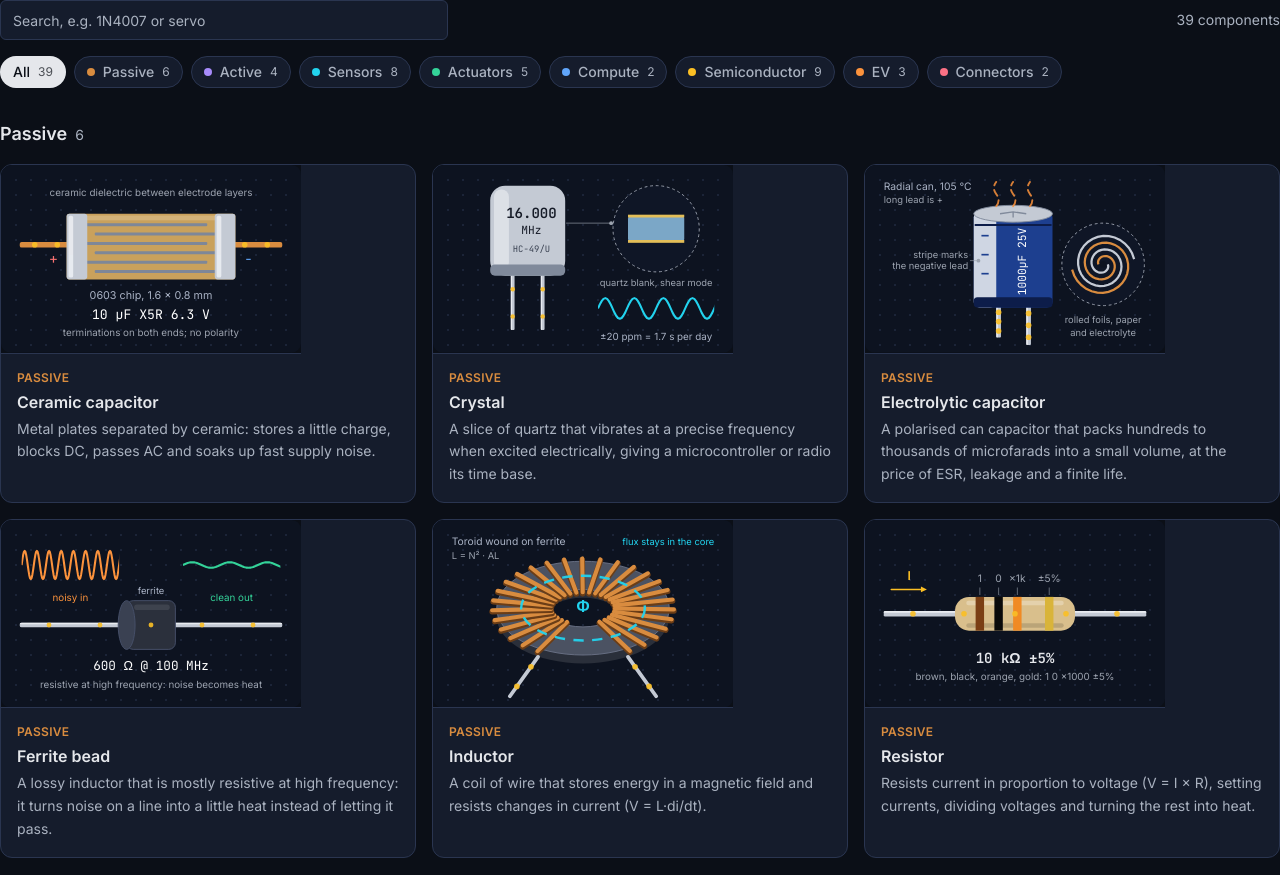
Test case: EncyclopediaBrowser › combines search and category, and shows an empty state with a way out
Click the button "Sensors 8".
click(355, 72)  # box [299,56,411,88]
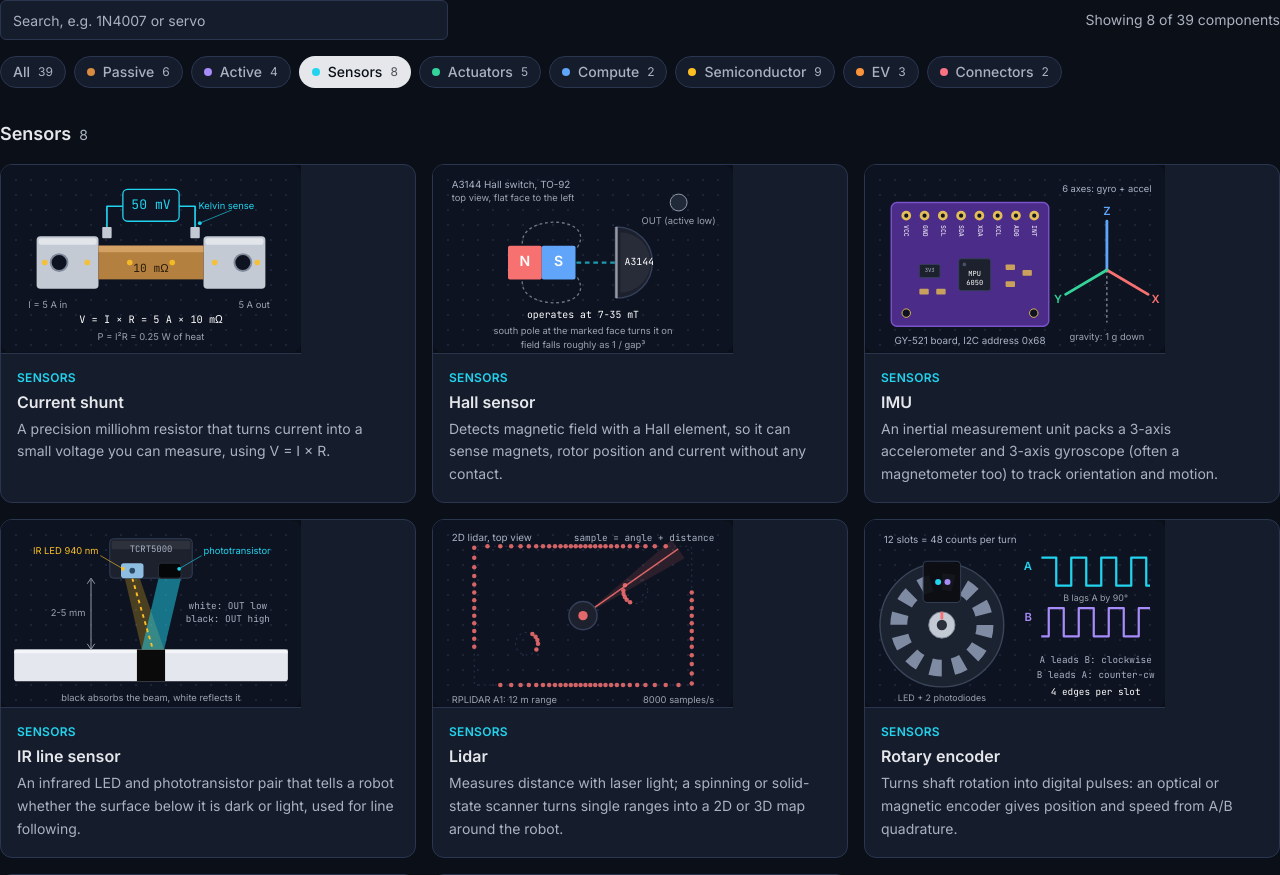
Type "magnet" into the search field labelled "Search, e.g. 1N4007 or servo".
click(224, 20); type("magnet")  # box [0,0,448,40]
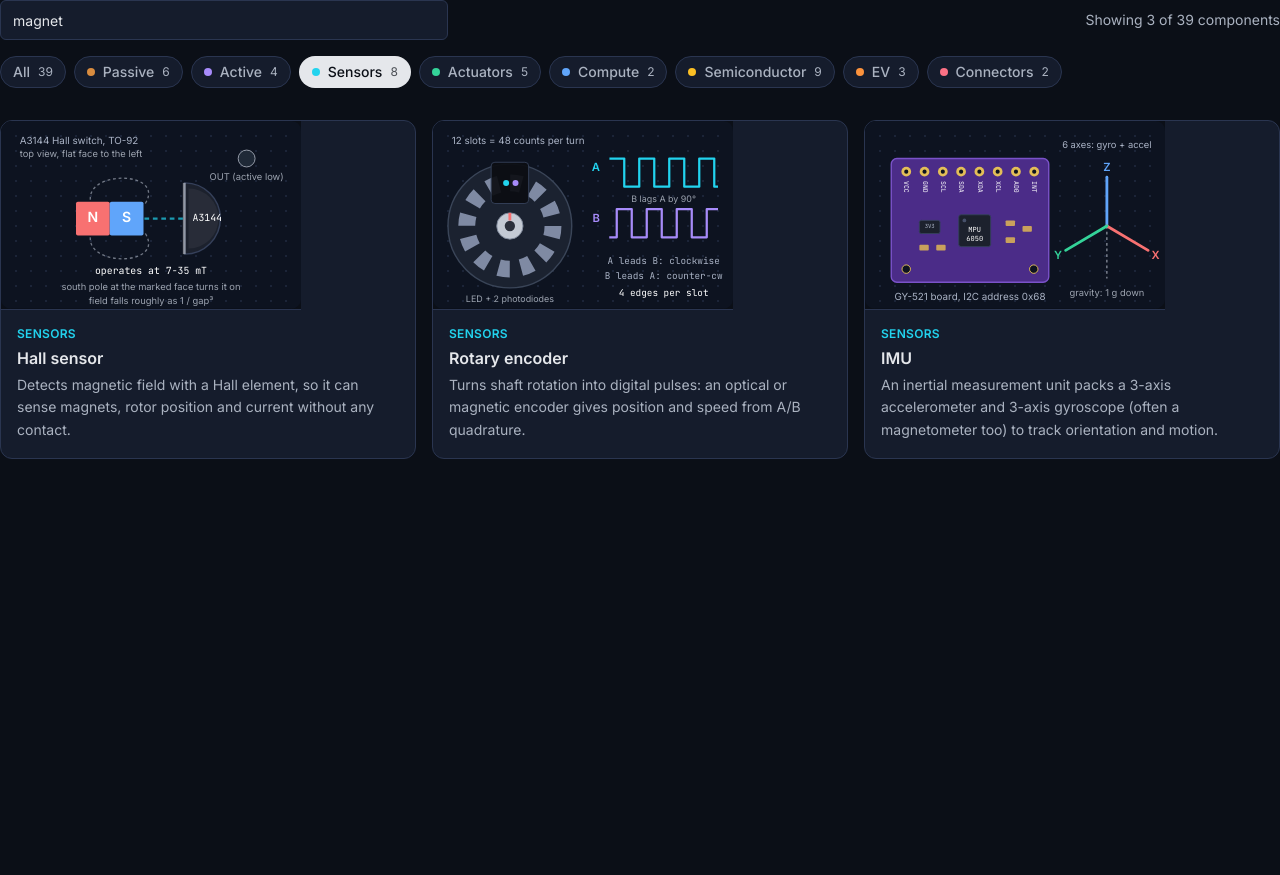
expect the text "Hall sensor" is shown: met, box [17,348,104,368]
Click the button "Passive 6".
click(128, 72)  # box [74,56,183,88]
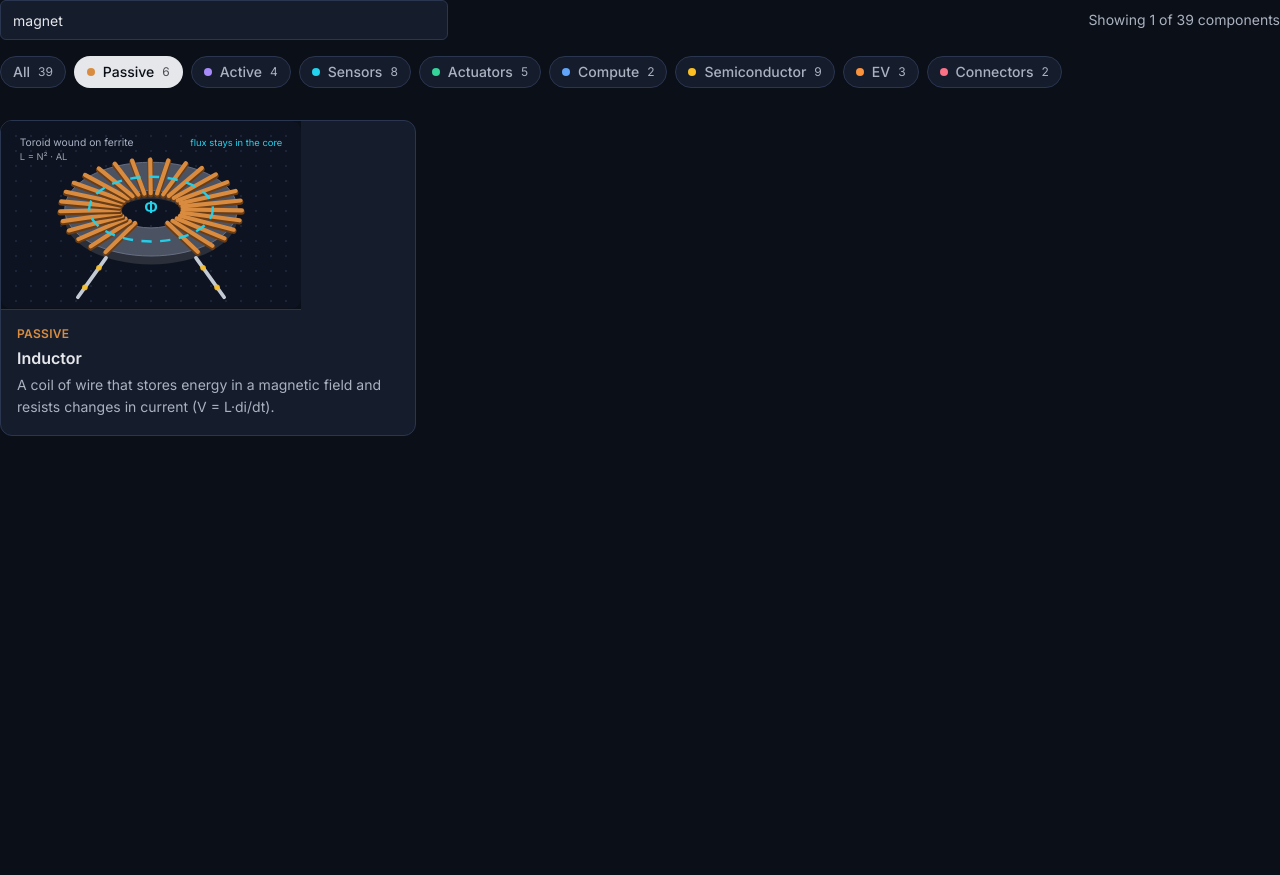
Replace the text in the search field named "Search" with "ultrasonic" at point(224, 20), box [0,0,448,40]
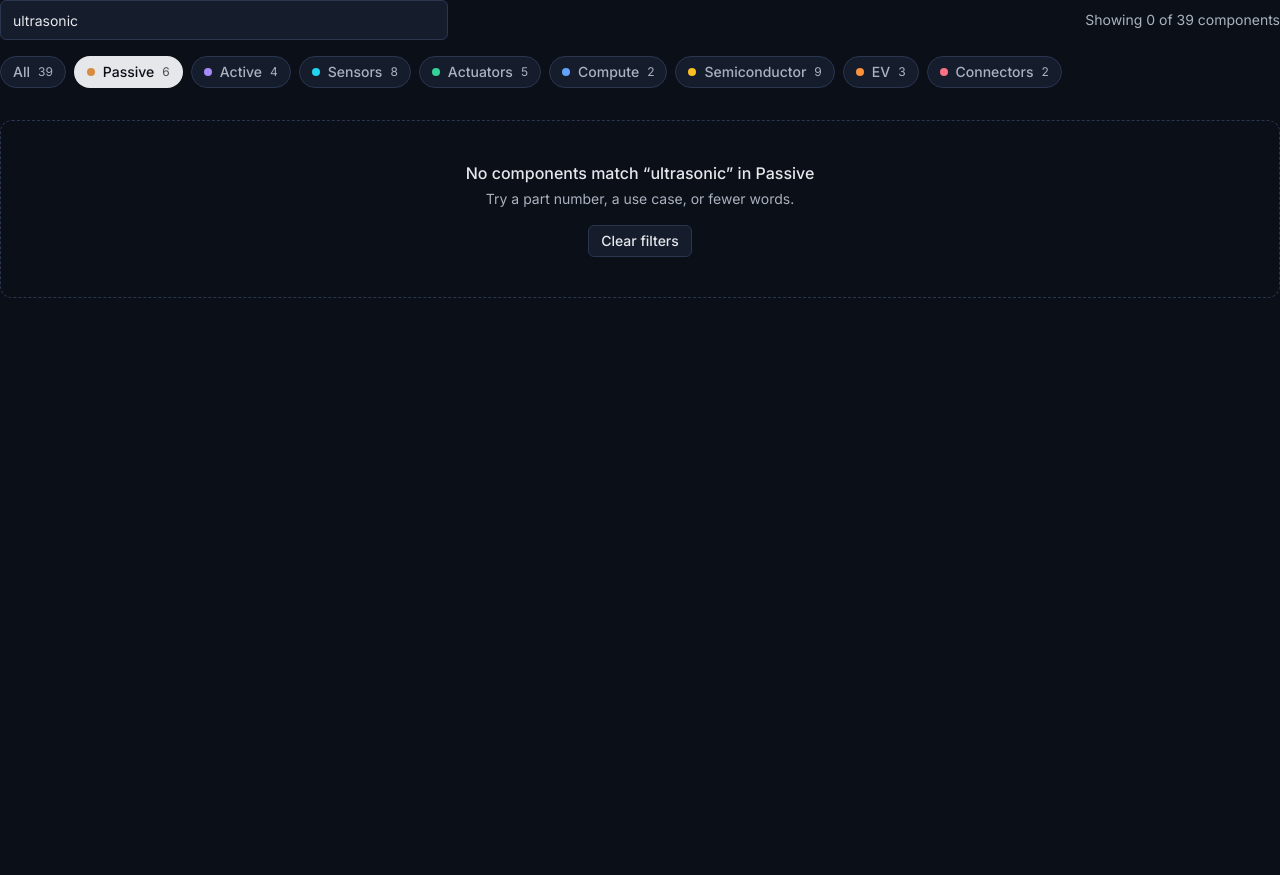
expect the text "No components match “ultrasonic” in Passive" is shown: met, box [466,163,814,183]
Click the button "Clear filters".
click(640, 241)  # box [588,225,692,257]
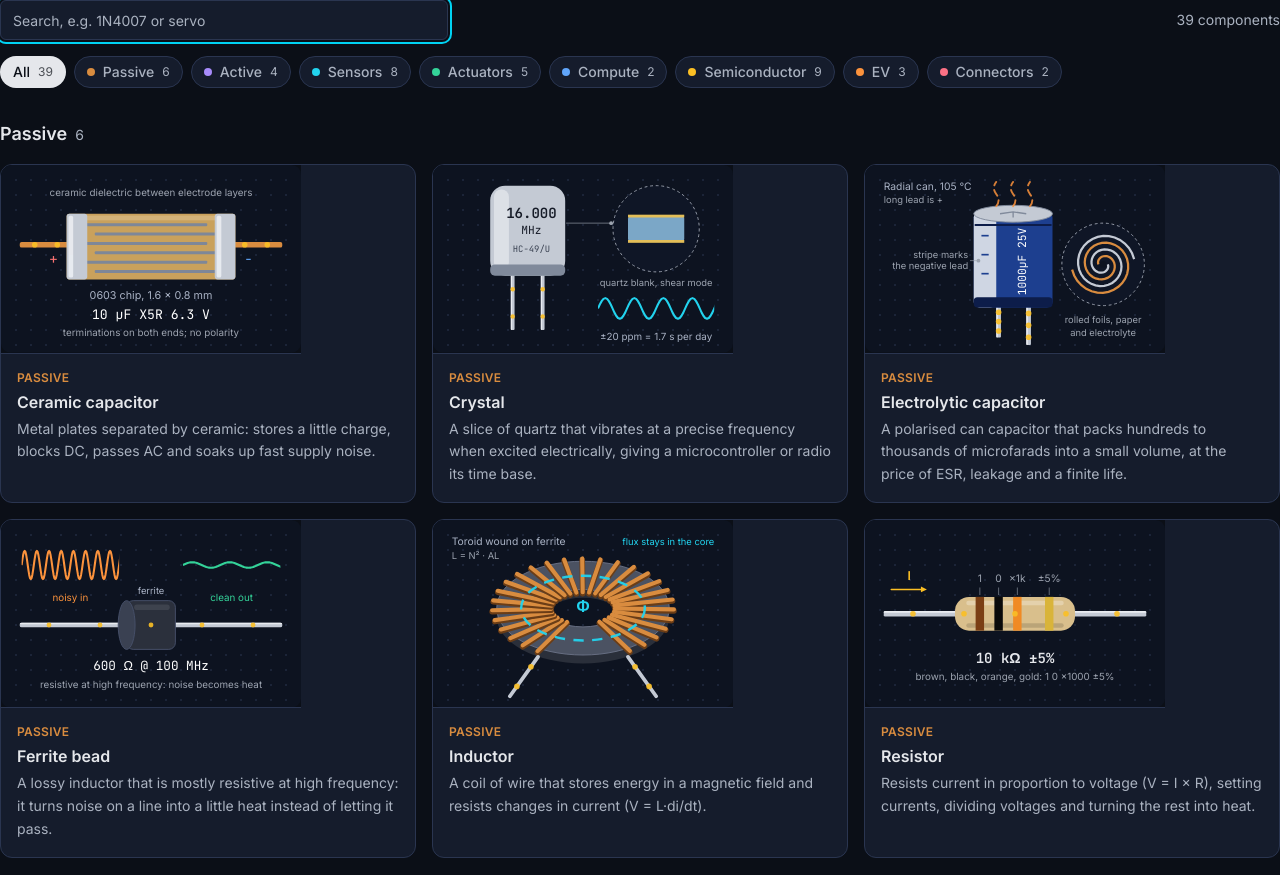
expect the search field labelled "Search, e.g. 1N4007 or servo" is empty: met, box [0,0,448,40]
